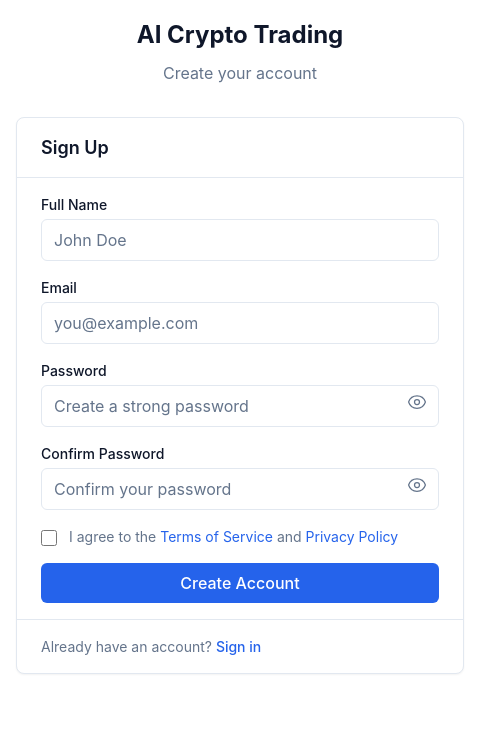
Signup Page › Form Validation › should show error when name is empty
Click the button "Create Account": (240, 582) [41,562,439,602]
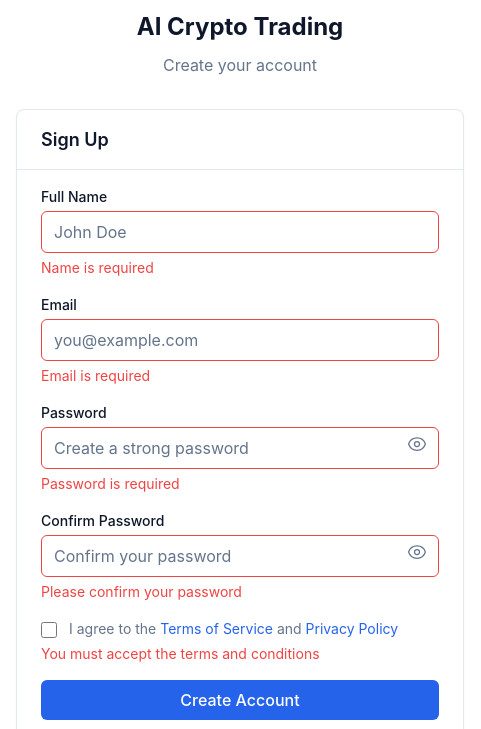
Result: the text "Name is required" is shown at [41,259,154,276]
